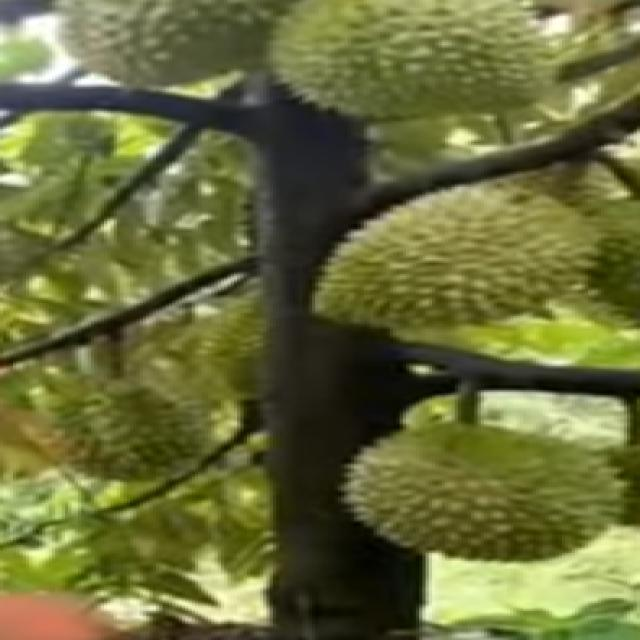immature: (298, 182, 606, 336), (337, 411, 637, 569), (260, 0, 568, 124)
